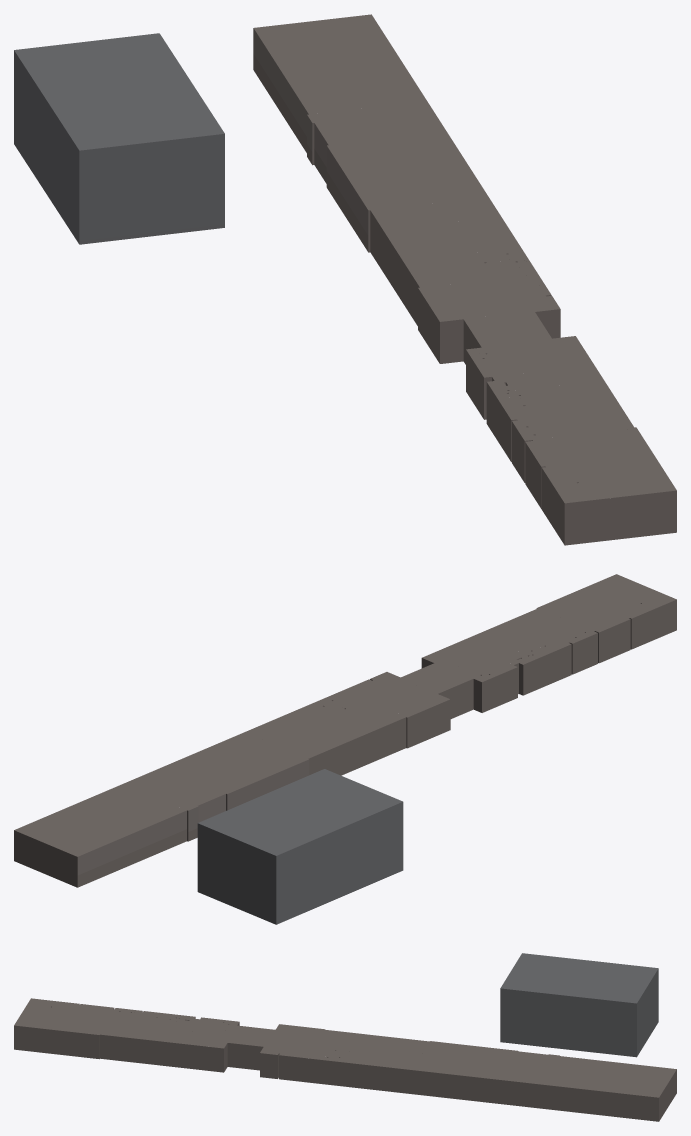
The model's file is t_3_0.far.glb.
3 views of the same model, one above another, from view 1: azimuth 30°, elevation 25°; view 2: azimuth 150°, elevation 25°; view 3: azimuth 270°, elevation 25° (orthographic). The views are drawn at different scales.
Parts seen in each view (by area): view 1: opaque; view 2: opaque; view 3: opaque.
Part boxes in pixels (x1,y1,x2,y2): opaque: (14,14,676,545); opaque: (14,574,676,924); opaque: (14,953,676,1121).
Bounding box in the file's own units: 117 × 25.43 × 284.
1 material, 1 textured.
